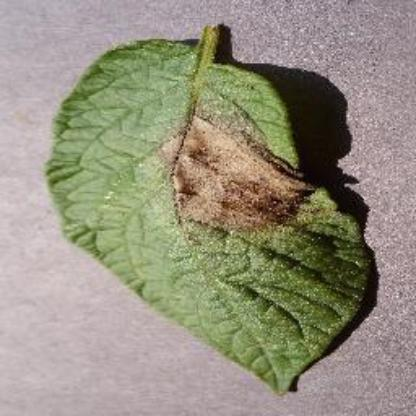Late-Blight: (41, 11, 381, 403)
